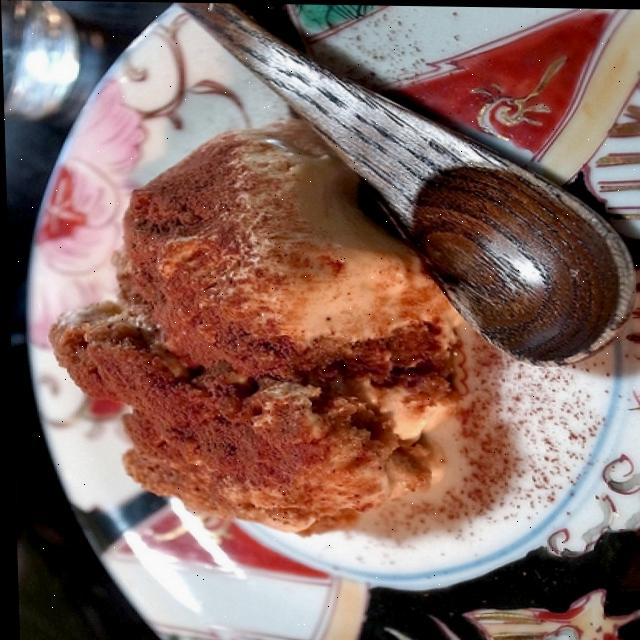蛋糕甜品: (20, 22, 640, 640)
